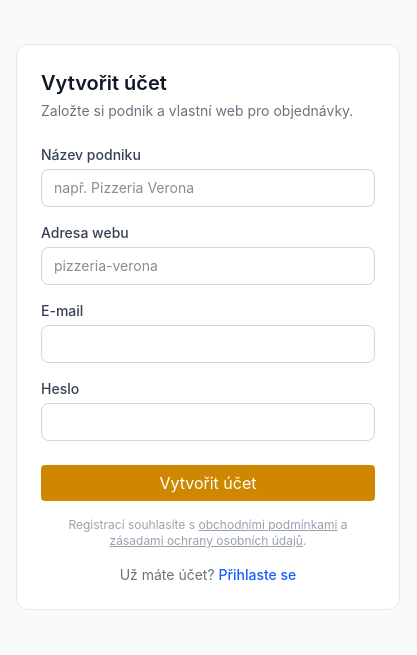
SignupPage › shows the API error message on failure
Type "Pizzeria Verona" into the field labelled "Název podniku".
click(208, 188); type("Pizzeria Verona")  # box [41,169,375,207]
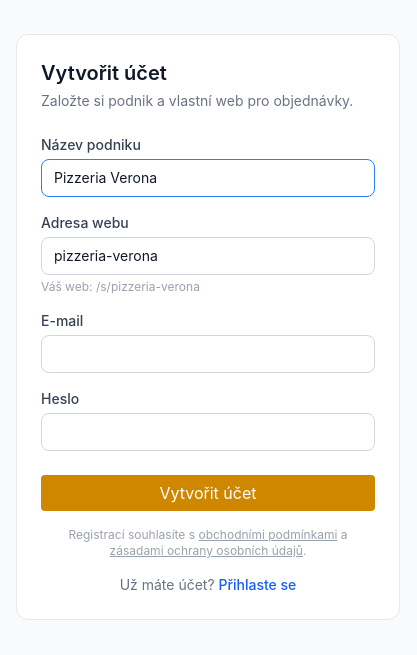
Type "owner@example.com" into the field labelled "E-mail".
click(208, 354); type("owner@example.com")  # box [41,335,375,373]
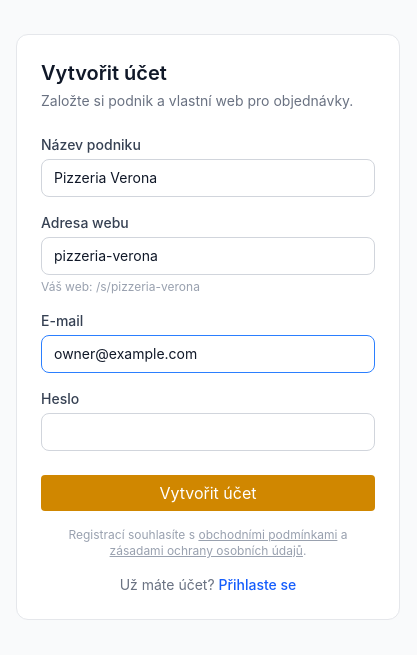
Type "password123" into the password field labelled "Heslo".
click(208, 432); type("password123")  # box [41,413,375,451]
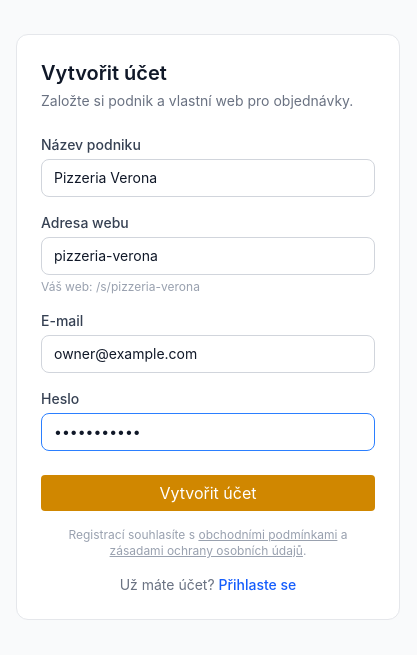
Click the button "Vytvořit účet".
click(208, 493)  # box [41,475,375,511]
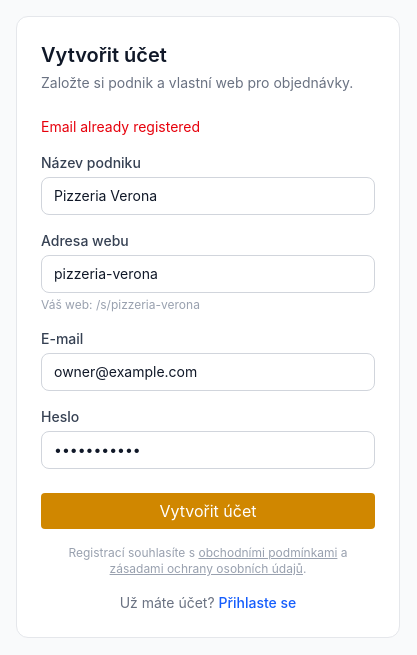
Check: the text "Email already registered" is shown, box [41,118,200,135]
